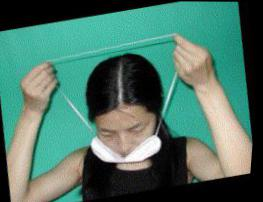WRONG: (96, 117, 163, 180)
